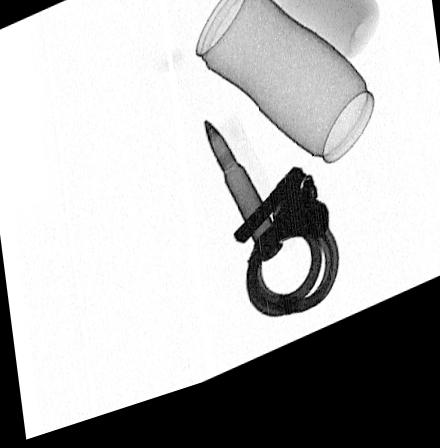Bullet: (201, 134, 283, 280)
Gun: (232, 186, 310, 261)
HandCuffs: (242, 185, 339, 337)
